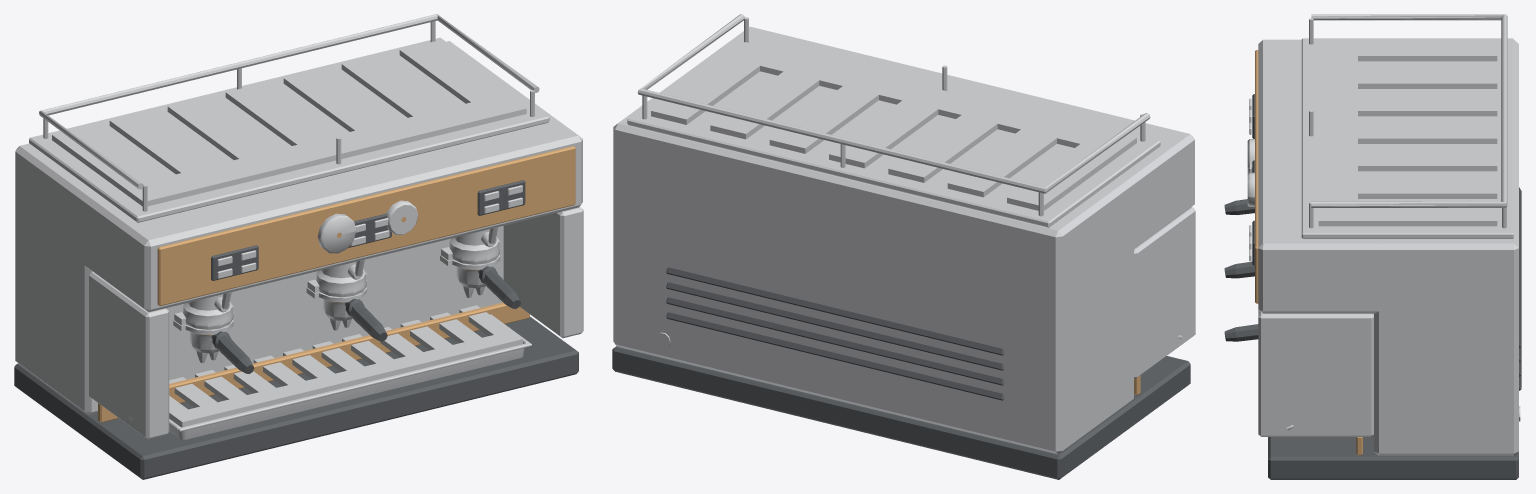
File: bakery-and-cafe-espresso-machine-3-group-eded22e9__22107.glb
The picture shows the model from 3 angles, left to right: view 1: azimuth 30°, elevation 25°; view 2: azimuth 150°, elevation 25°; view 3: azimuth 270°, elevation 25°; orthographic projection. The views are drawn at different scales.
Parts seen in each view (by area): view 1: espresso-machine-3-group; view 2: espresso-machine-3-group; view 3: espresso-machine-3-group.
Part boxes in pixels (x1,y1,x2,y2): espresso-machine-3-group: (14, 14, 583, 479); espresso-machine-3-group: (612, 14, 1195, 479); espresso-machine-3-group: (1224, 14, 1521, 479).
Size of the model in its own units: 1.02 by 0.637 by 0.6152.
